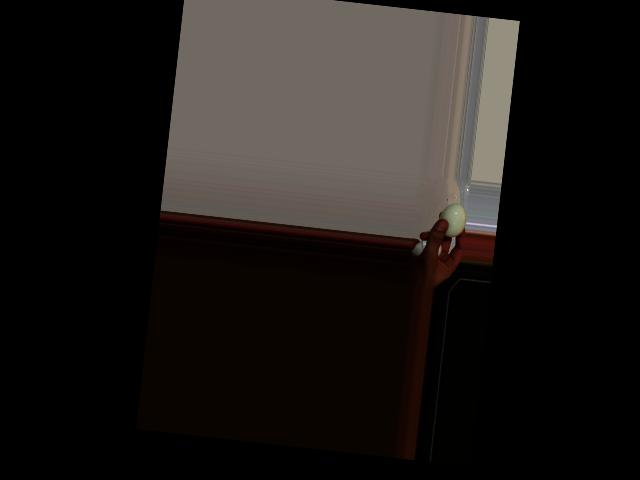egg: (436, 202, 468, 238)
